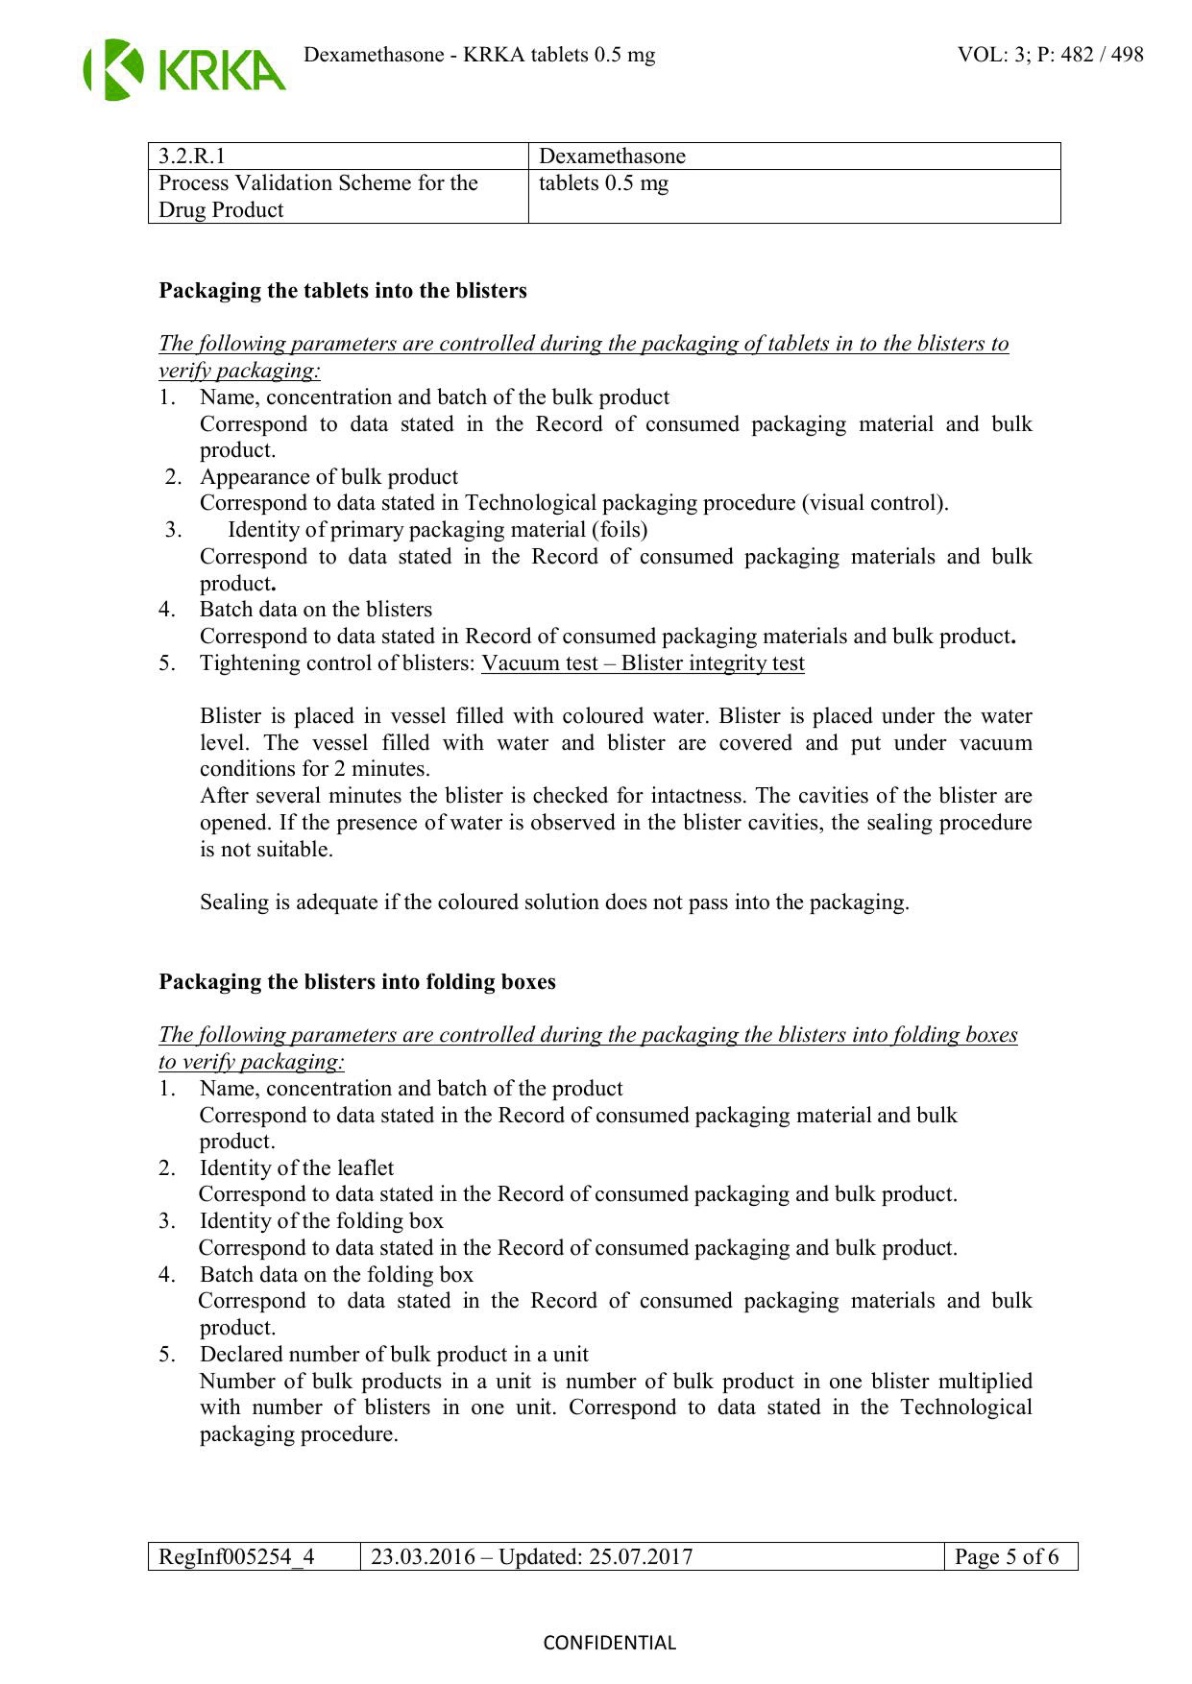full_lined: (148, 141, 1062, 224), (146, 1541, 1078, 1571)
